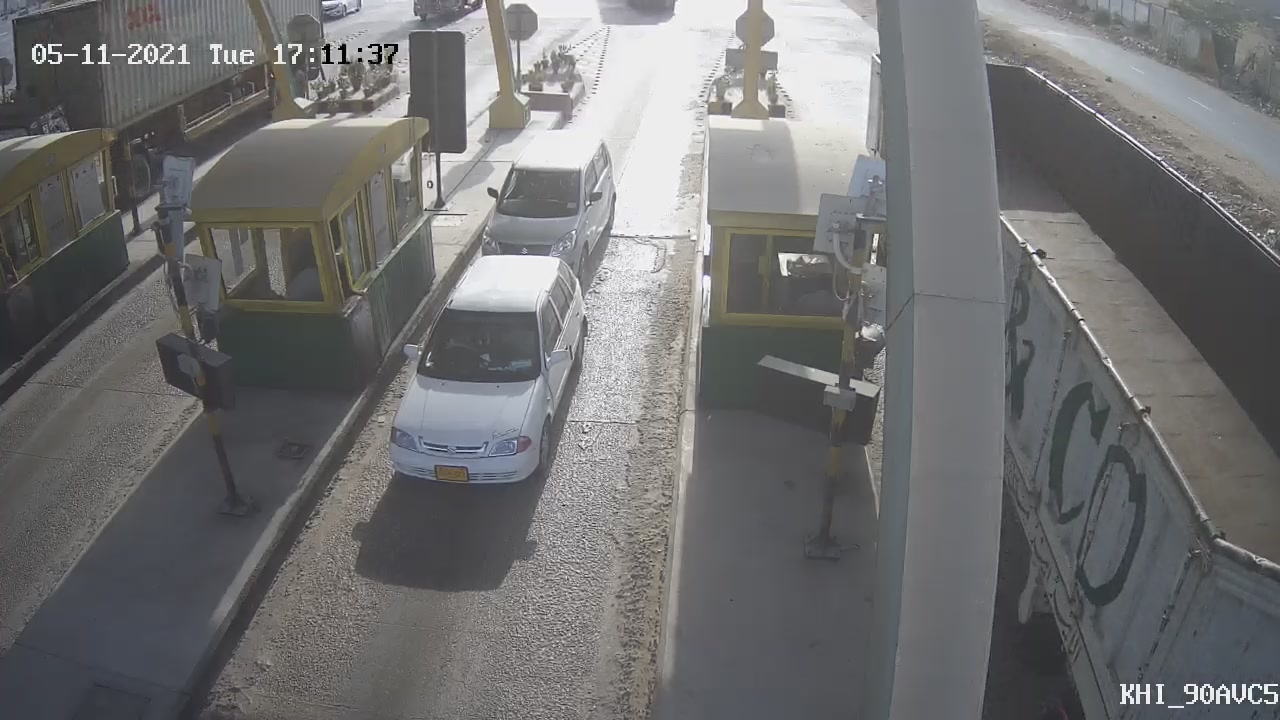F1: (374, 238, 607, 504), (457, 121, 635, 307)
